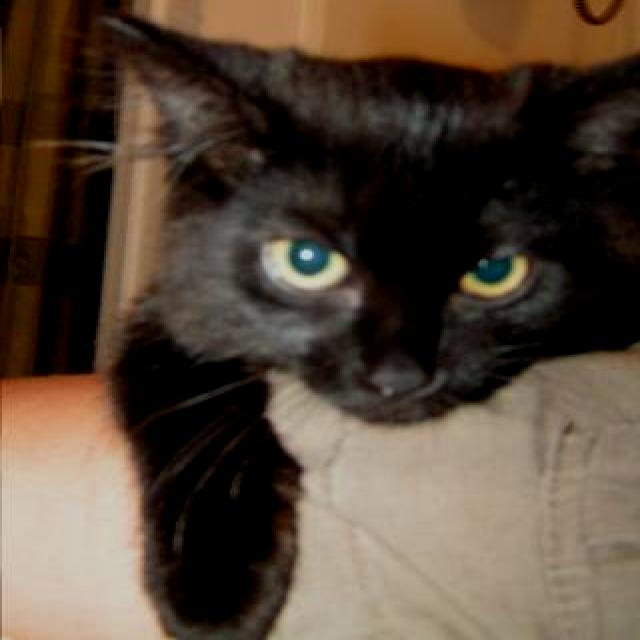Kucing: (69, 3, 634, 601)
